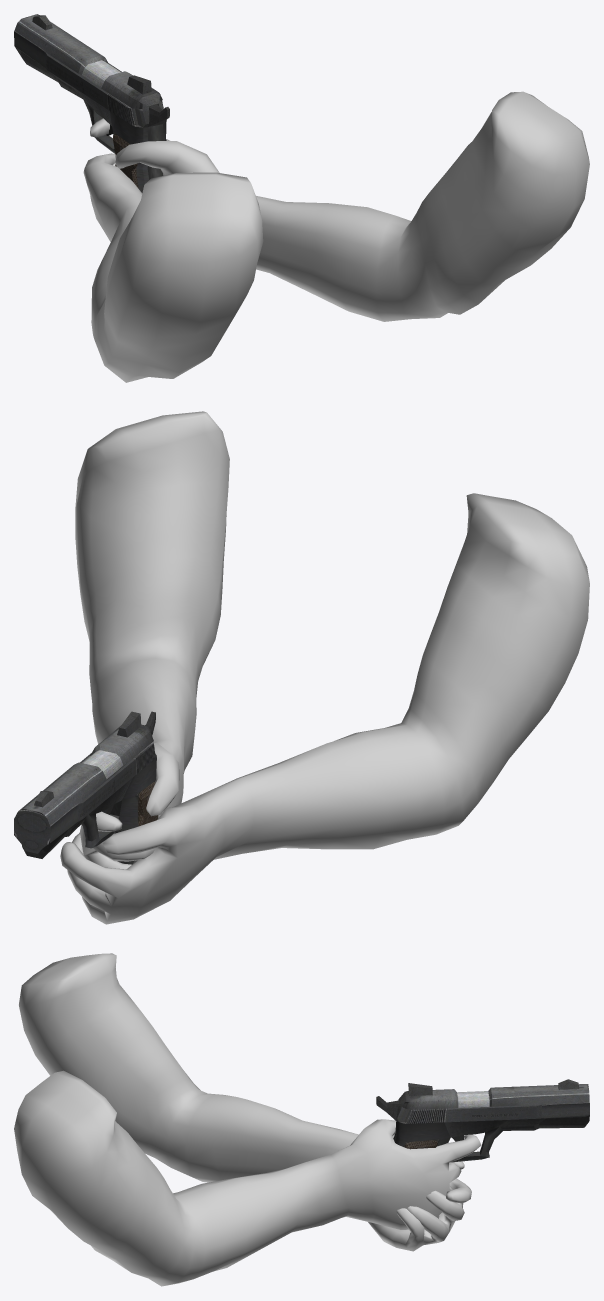
File: HandGun.fbx
3 views of the same model, one above another, from view 1: azimuth 30°, elevation 25°; view 2: azimuth 150°, elevation 25°; view 3: azimuth 270°, elevation 25° (orthographic). The views are drawn at different scales.
Visible parts, largest first — view 1: HandGun; view 2: HandGun; view 3: HandGun.
Boxes of the visible parts, bbox=[...] form: HandGun: bbox=[14, 14, 589, 382]; HandGun: bbox=[14, 411, 589, 924]; HandGun: bbox=[14, 953, 589, 1286].
Size of the model in its own units: 22.59 by 12.99 by 29.23.
